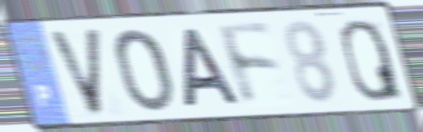8: (283, 17, 341, 109)
A: (180, 25, 245, 110)
F: (214, 21, 285, 112)
O: (112, 26, 177, 115)
Q: (337, 16, 406, 104)
V: (45, 25, 106, 120)
